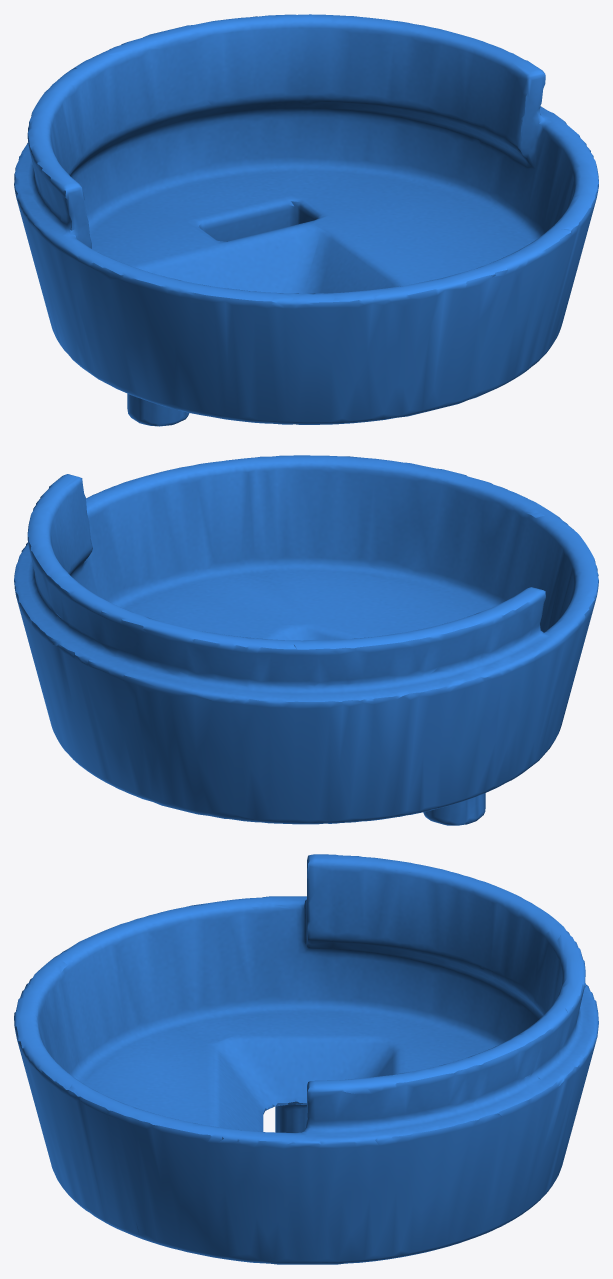
File: left_wrist.glb
The picture shows the model from 3 angles, top to bottom: view 1: azimuth 30°, elevation 25°; view 2: azimuth 150°, elevation 25°; view 3: azimuth 270°, elevation 25°; orthographic projection.
Visible parts, largest first — view 1: left_wrist; view 2: left_wrist; view 3: left_wrist.
Part boxes in pixels (<box>): left_wrist: <box>14,14,598,426</box>; left_wrist: <box>14,455,598,825</box>; left_wrist: <box>14,854,598,1264</box>.
Size of the model in its own units: 0.0516 by 0.0243 by 0.0516.
Materials: 1 (1 with a texture image).
